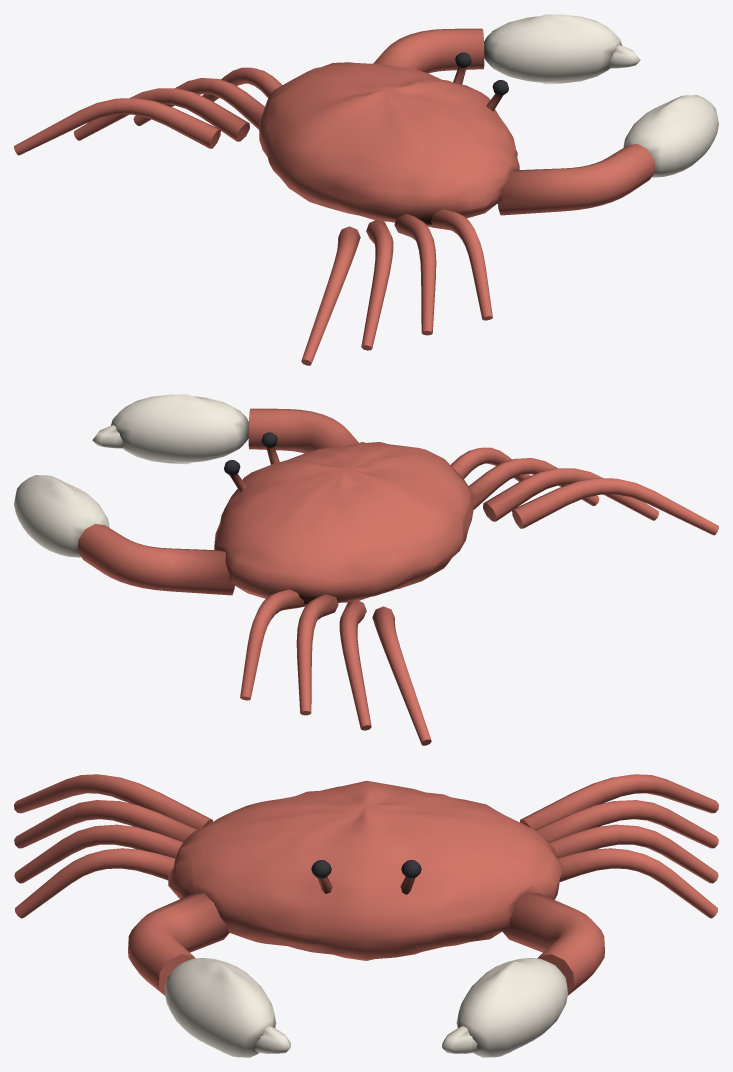
The model's file is food_crab.glb.
3 views of the same model, one above another, from view 1: azimuth 30°, elevation 25°; view 2: azimuth 150°, elevation 25°; view 3: azimuth 270°, elevation 25° (orthographic). The views are drawn at different scales.
Parts seen in each view (by area): view 1: PART; view 2: PART; view 3: PART.
Part boxes in pixels (x1,y1,x2,y2): PART: [14, 14, 718, 365]; PART: [14, 394, 718, 745]; PART: [14, 774, 718, 1057].
Size of the model in its own units: 0.3198 by 0.0693 by 0.3159.
